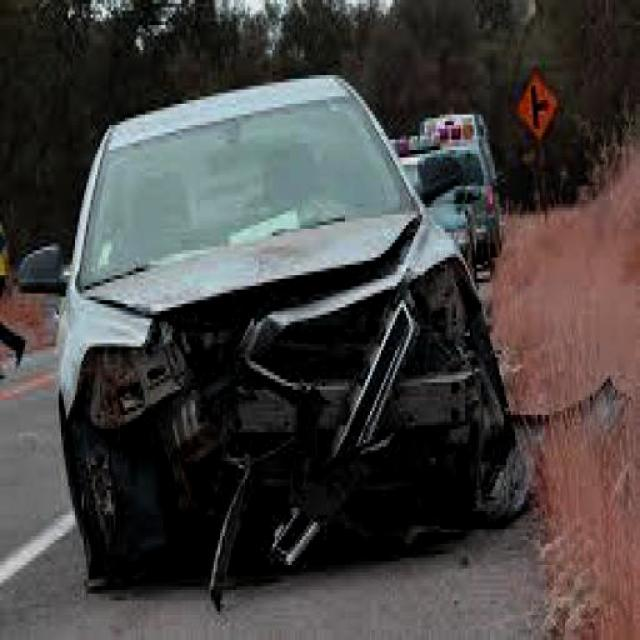car damage: (61, 225, 629, 607)
